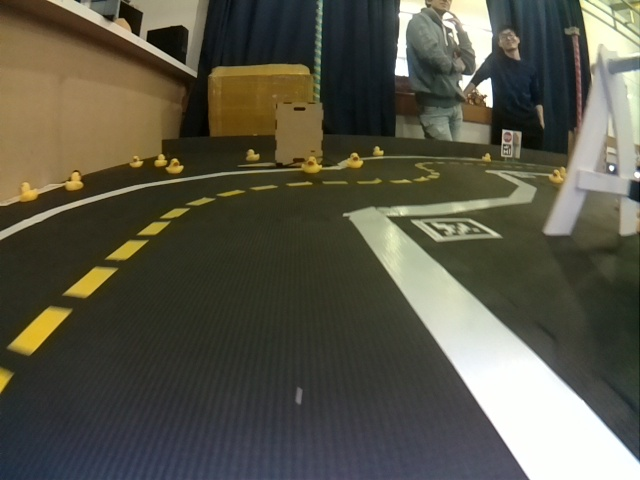Duckie: (303, 157, 321, 174), (65, 172, 82, 190), (20, 182, 37, 199), (166, 159, 184, 173), (348, 153, 363, 167), (155, 154, 167, 167), (247, 149, 259, 161), (130, 156, 143, 166), (550, 170, 561, 181), (373, 147, 383, 156), (482, 153, 491, 162)
QR code: (417, 219, 498, 241), (502, 145, 512, 157)
Stop sign: (502, 130, 512, 144)
